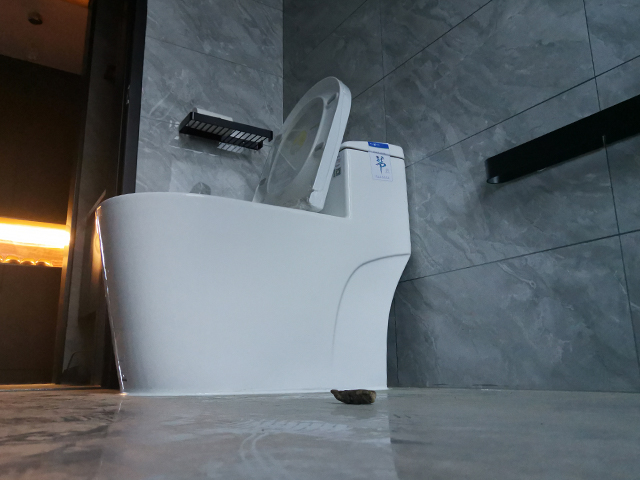closestool: (92, 75, 415, 401)
feces: (332, 386, 376, 407)
